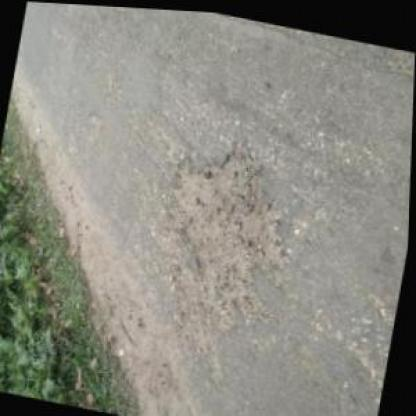pothole: (154, 132, 298, 300)
